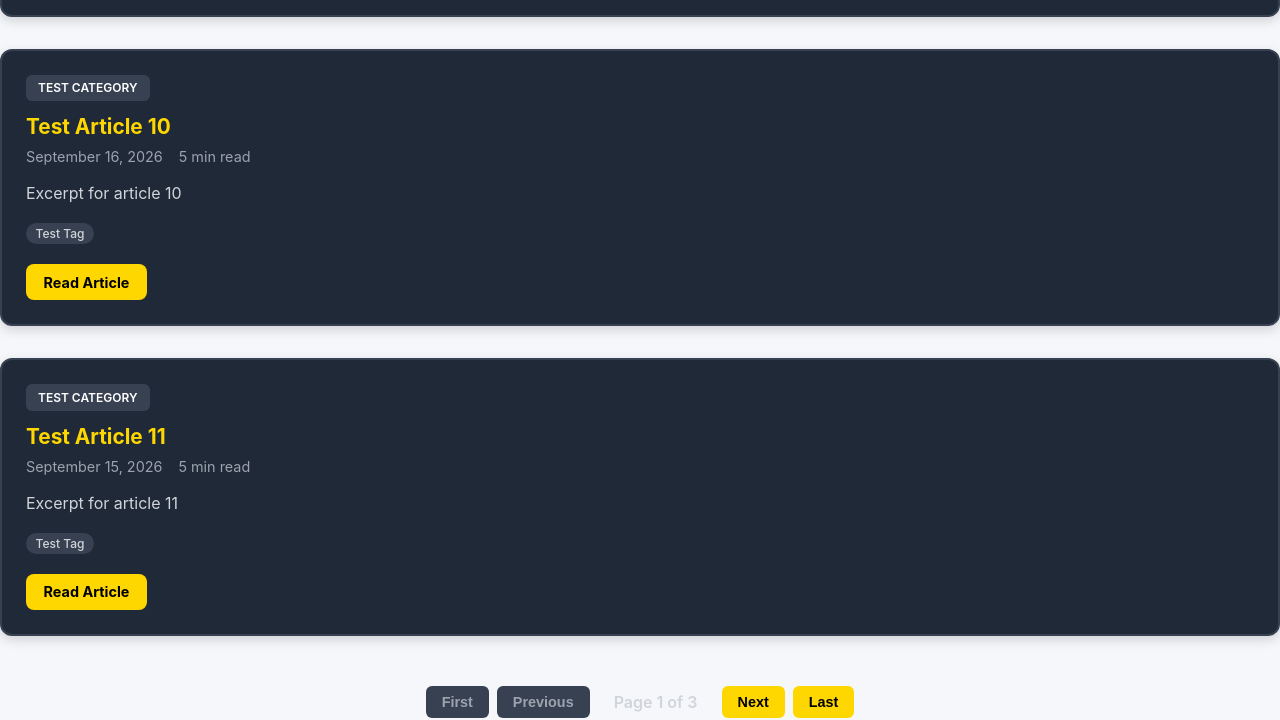
Test: NewsIndex pagination › navigates to next page
(page scrolled)
Click the button "Next": [753, 702] box [722, 686, 785, 718]
(page scrolled)
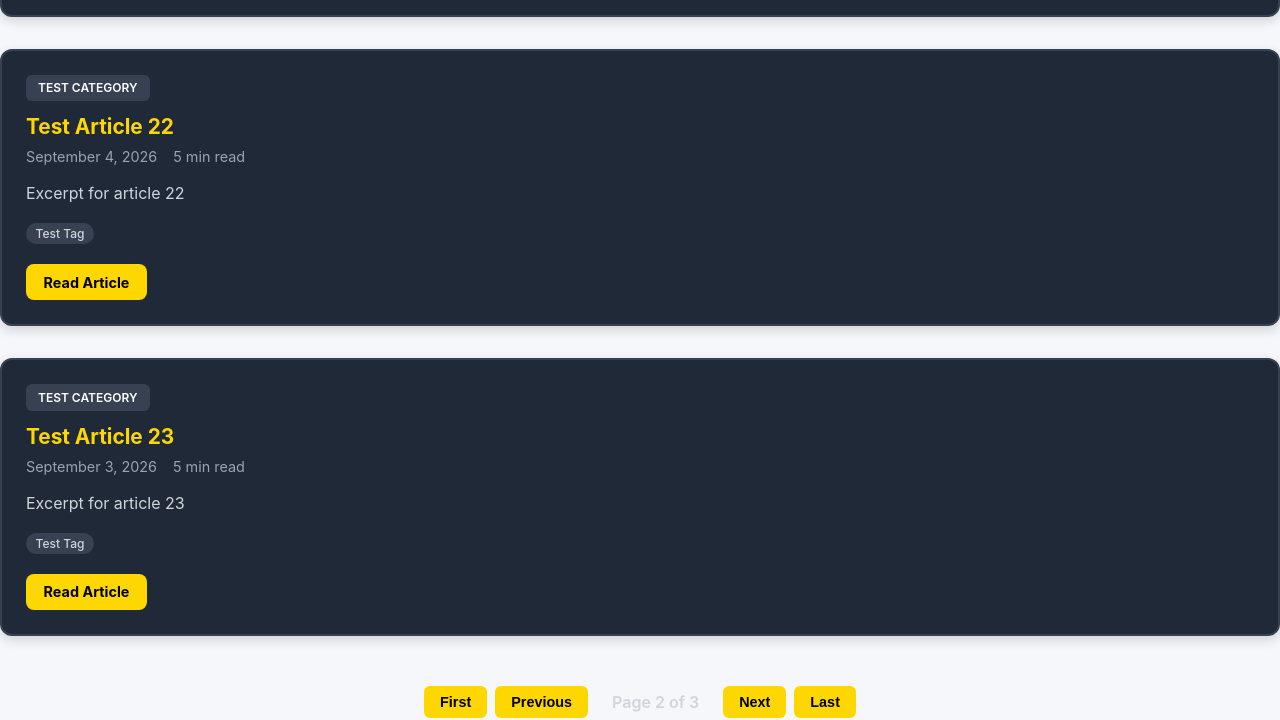
Expected: the text "Page 2 of 3" is shown, [612, 692, 699, 712]
